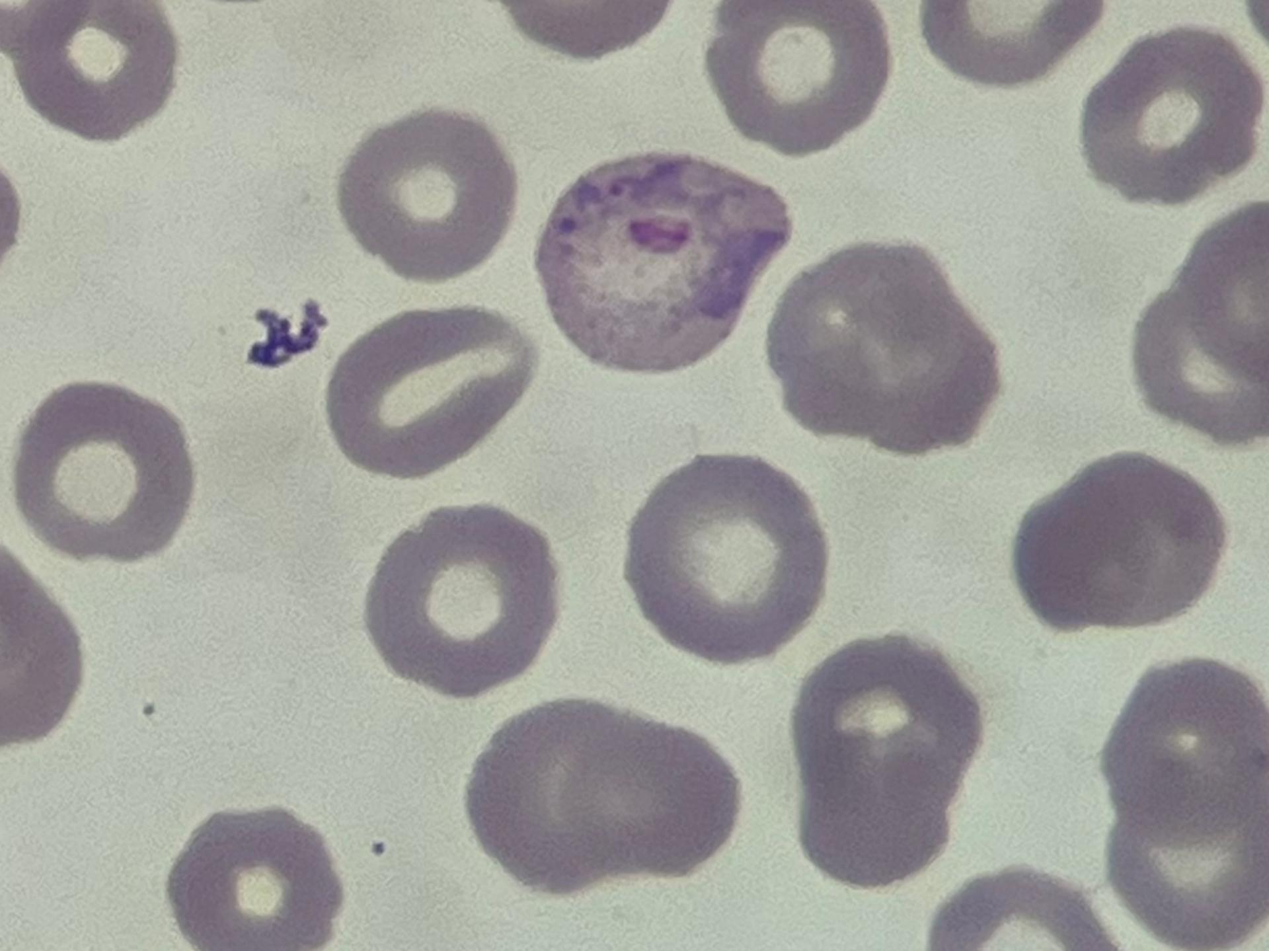Infected: (535, 151, 794, 378)
Uninfected: (768, 242, 1000, 458), (628, 453, 826, 667), (321, 303, 532, 483), (365, 503, 558, 699), (469, 701, 661, 894), (1022, 455, 1222, 634), (1077, 27, 1264, 201), (790, 633, 981, 803), (17, 384, 192, 565), (1100, 660, 1269, 843), (555, 719, 742, 883), (337, 113, 514, 281), (711, 0, 892, 156), (798, 730, 952, 896), (169, 803, 338, 951), (1104, 805, 1269, 951), (13, 0, 174, 143), (1132, 278, 1269, 445), (1186, 207, 1269, 392)
